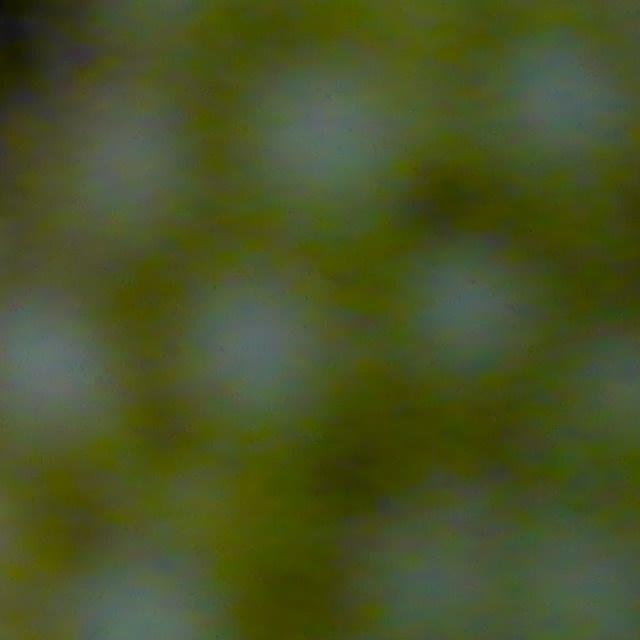SeaGrape: (160, 246, 392, 486), (232, 46, 444, 266), (444, 6, 640, 218), (400, 234, 584, 446), (347, 466, 551, 640), (19, 82, 201, 262), (0, 304, 123, 484)
